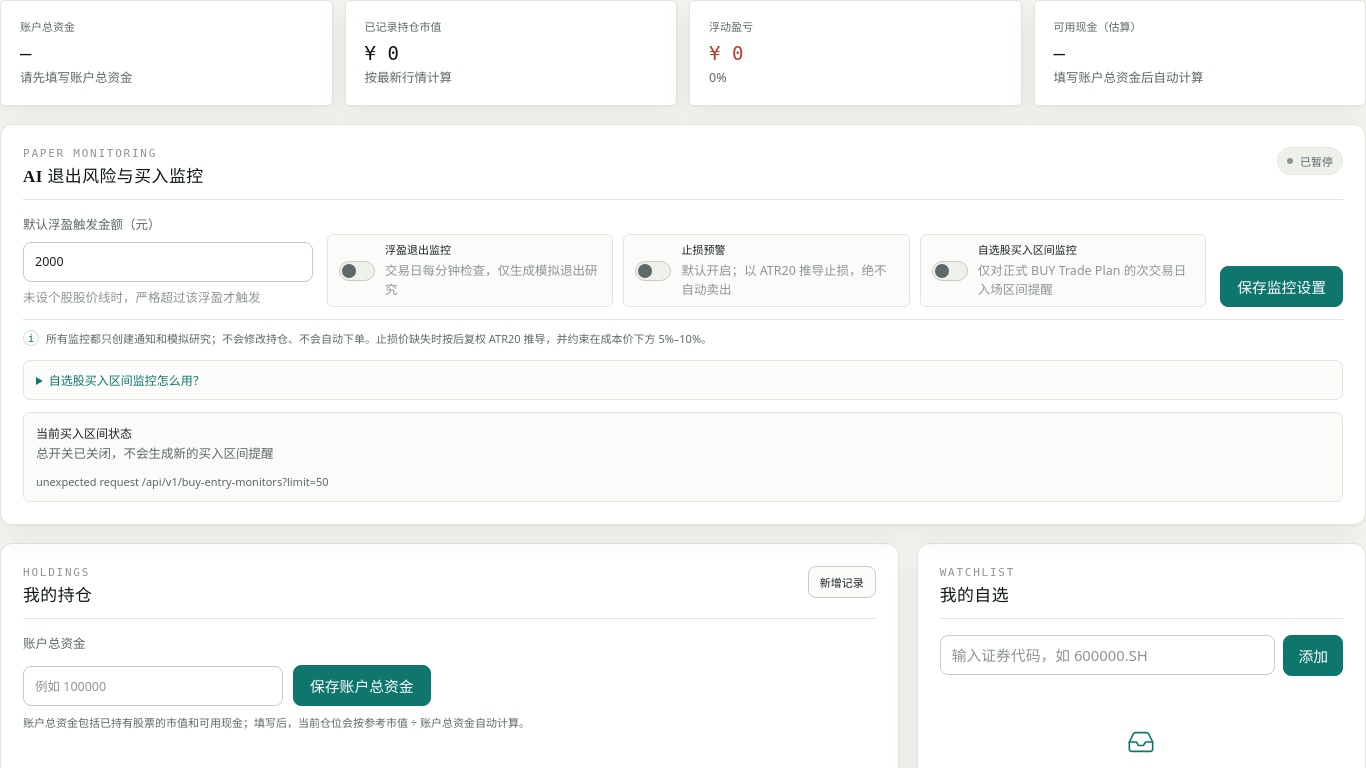
Test case: persists exit-monitor controls through the narrow idempotent settings endpoint
Check: the text "已暂停" is shown, box [1277,147,1343,175]
Click the checkbox labelled "浮盈退出监控 交易日每分钟检查，仅生成模拟退出研究". click: (470, 271)
box: [327,234,613,307]
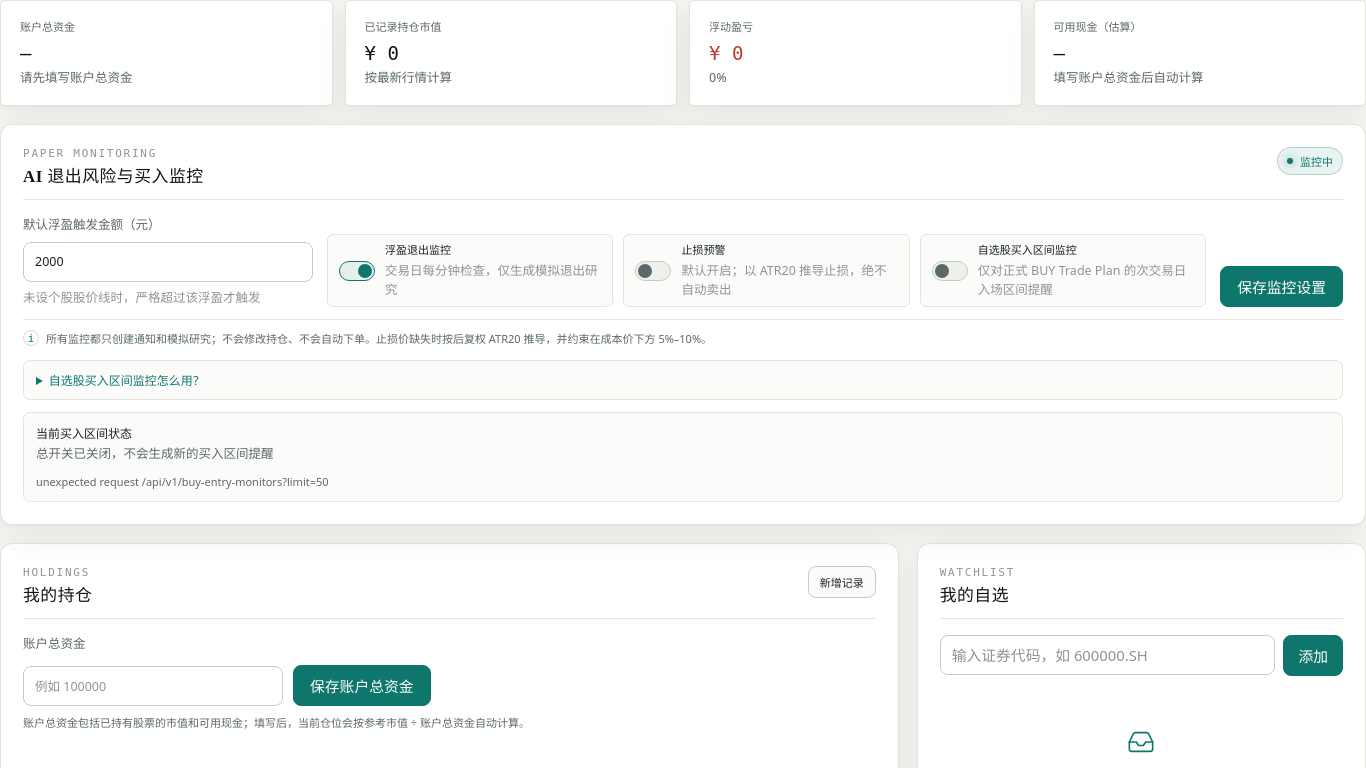
Check: the text "监控中" is shown, box [1277,147,1343,175]
